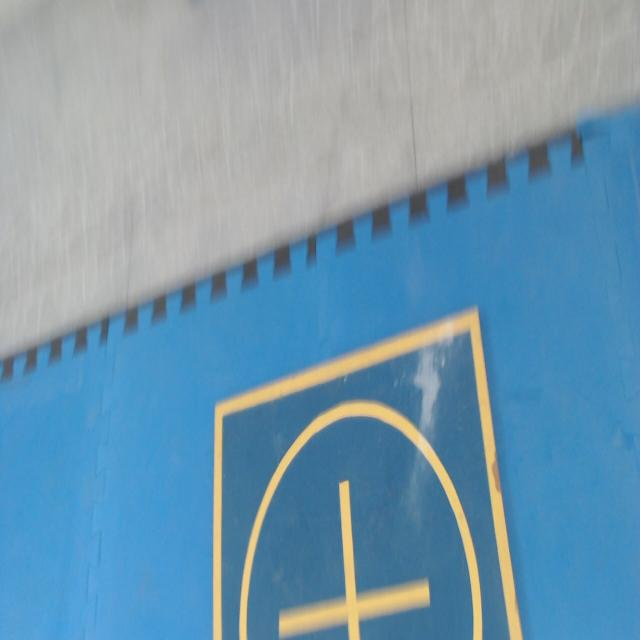base_pouso: (214, 307, 525, 639)
